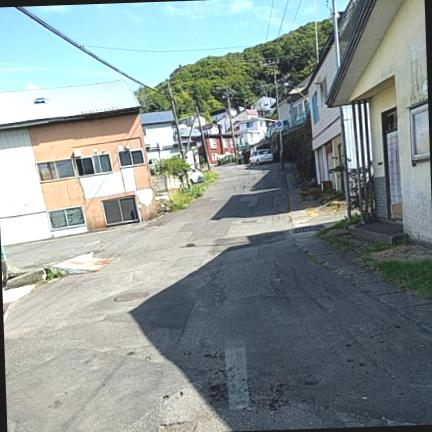Road: (4, 165, 431, 431)
